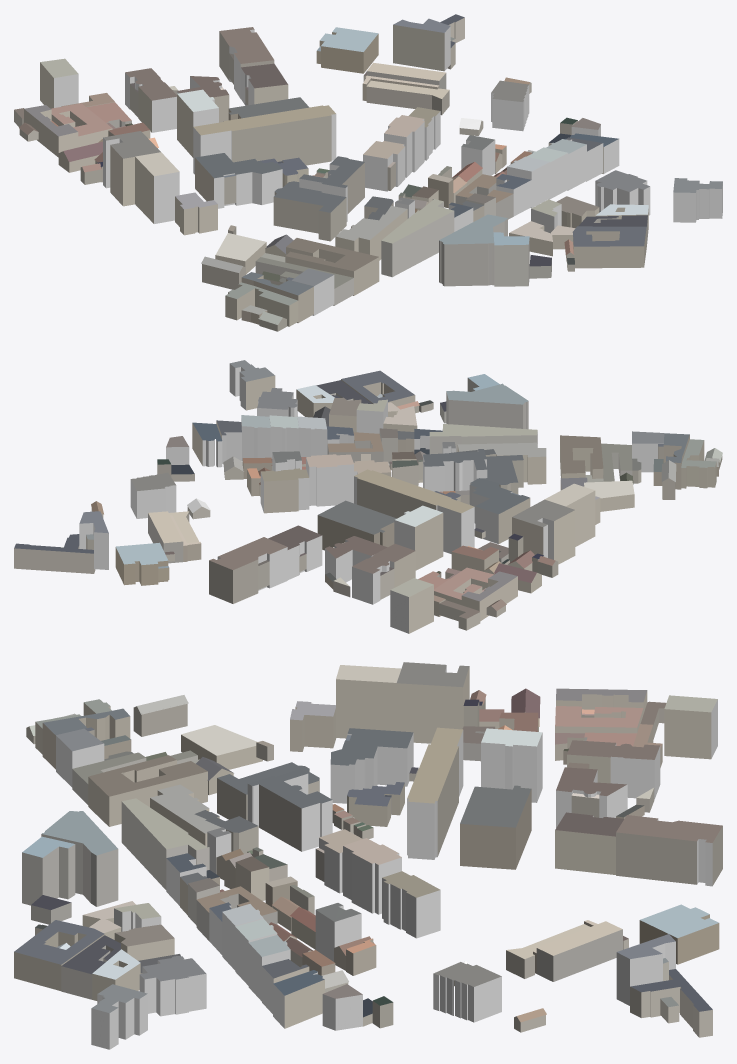
The picture shows the model from 3 angles, top to bottom: view 1: azimuth 30°, elevation 25°; view 2: azimuth 150°, elevation 25°; view 3: azimuth 270°, elevation 25°; orthographic projection. The views are drawn at different scales.
Visible parts, largest first — view 1: tuile; view 2: tuile; view 3: tuile.
Part boxes in pixels (<box>): tuile: <box>14,14,722,331</box>; tuile: <box>14,360,722,633</box>; tuile: <box>14,662,722,1049</box>.
Size of the model in its own units: 272 by 42.49 by 271.
